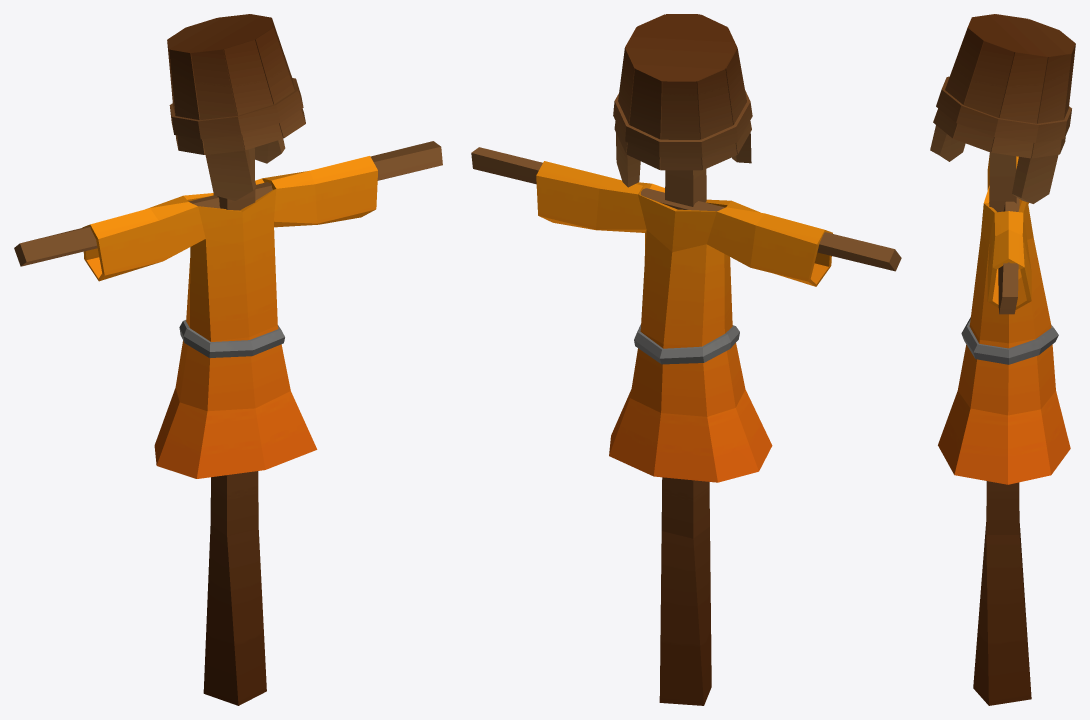
Rendered from scarecrow.fbx.
3 renders of one model, left to right at view 1: azimuth 30°, elevation 25°; view 2: azimuth 150°, elevation 25°; view 3: azimuth 270°, elevation 25°, orthographic.
Parts seen in each view (by area): view 1: low_poly_body, low_poly_bucket.001, low_poly_cross, low_poly_belt; view 2: low_poly_body, low_poly_bucket.001, low_poly_cross, low_poly_belt; view 3: low_poly_body, low_poly_bucket.001, low_poly_cross, low_poly_belt.
Part boxes in pixels (x1,y1,x2,y2): low_poly_body: (82, 156, 377, 478); low_poly_bucket.001: (167, 14, 305, 200); low_poly_cross: (14, 141, 442, 705); low_poly_belt: (179, 320, 284, 357); low_poly_body: (536, 161, 832, 482); low_poly_bucket.001: (613, 14, 752, 187); low_poly_cross: (471, 147, 901, 705); low_poly_belt: (634, 324, 739, 364); low_poly_body: (938, 155, 1070, 484); low_poly_bucket.001: (930, 14, 1075, 203); low_poly_cross: (973, 152, 1031, 705); low_poly_belt: (961, 317, 1058, 364).
Bounding box in the file's own units: 150 × 228 × 45.26.
Materials: 1 (1 with a texture image).
